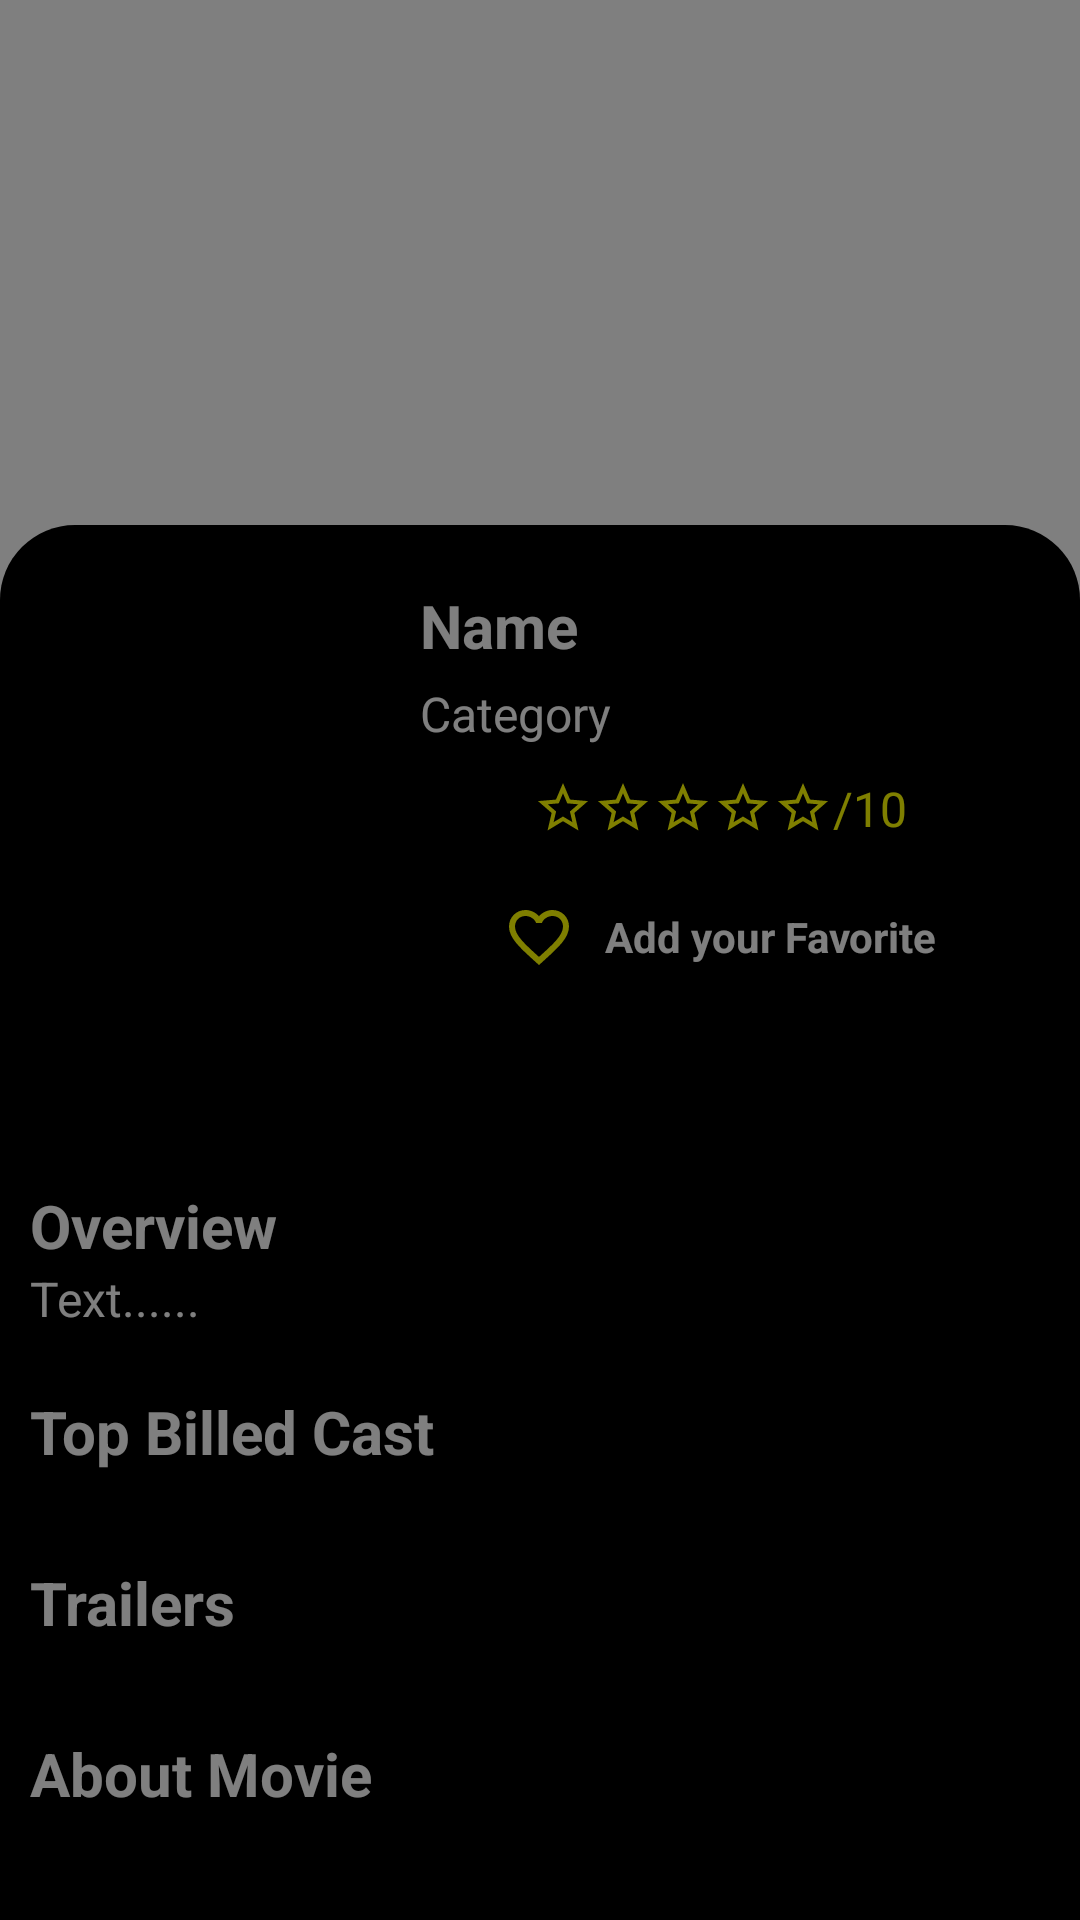

Where to tap for icons on this 1080*1920 app screen, as (x=x, y=y):
favorite border: (x=539, y=937)
star border: (x=563, y=807), (x=623, y=807), (x=683, y=807), (x=743, y=807), (x=803, y=807)
